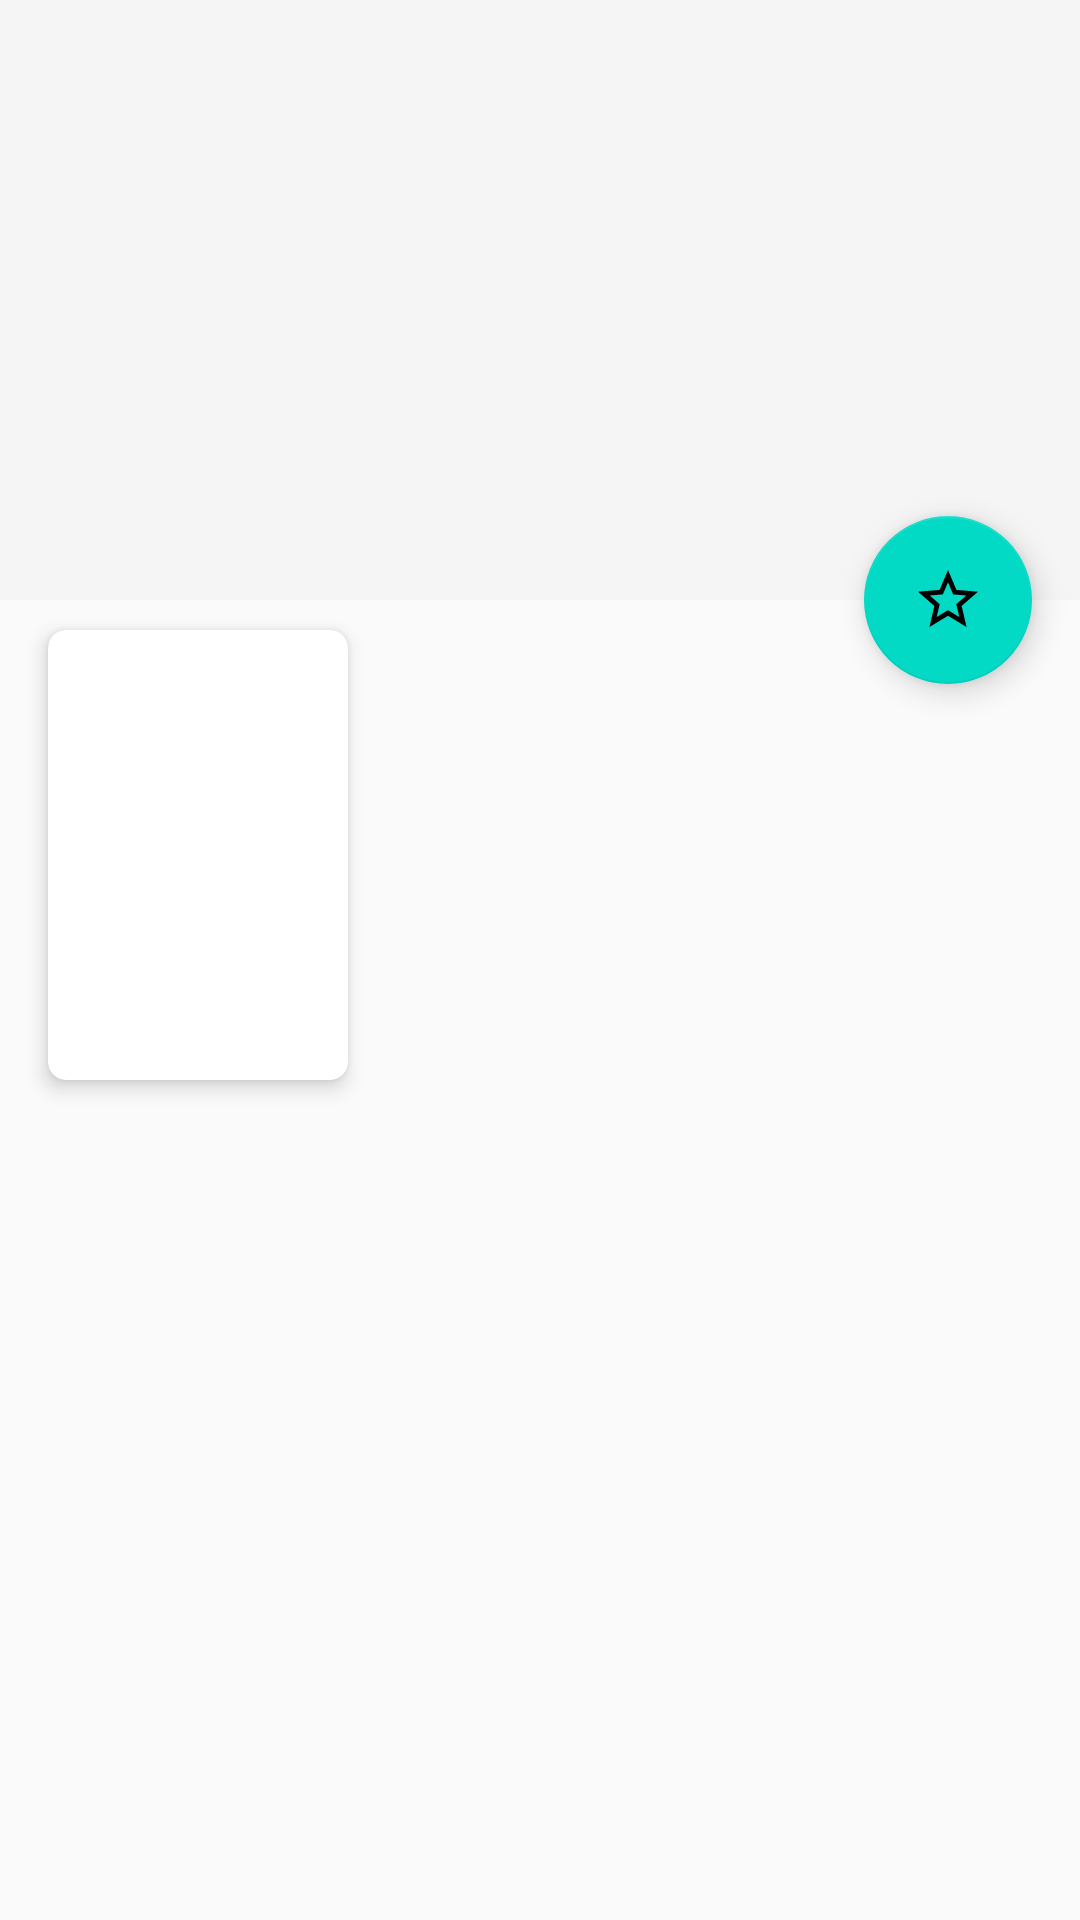

Icons on this 1080 x 1920 Android screen, each with the point to tap as (x,y):
add to favorites: (948,600)
